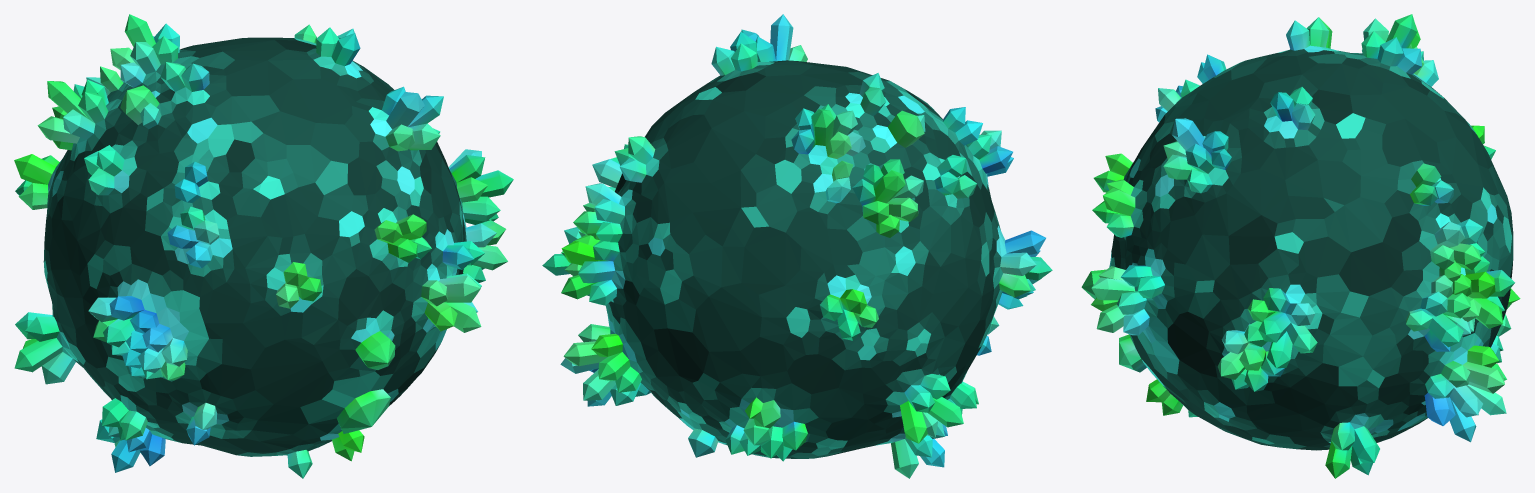
The model's file is Crystal_planet_29.fbx.
3 renders of one model, left to right at view 1: azimuth 30°, elevation 25°; view 2: azimuth 150°, elevation 25°; view 3: azimuth 270°, elevation 25°, orthographic. The views are drawn at different scales.
Visible parts, largest first — view 1: file6; view 2: file6; view 3: file6.
Part boxes in pixels (x1,y1,x2,y2): file6: (14,14,513,478); file6: (542,14,1052,478); file6: (1081,14,1520,478).
Bounding box in the file's own units: 2.42 × 2.12 × 2.18.
